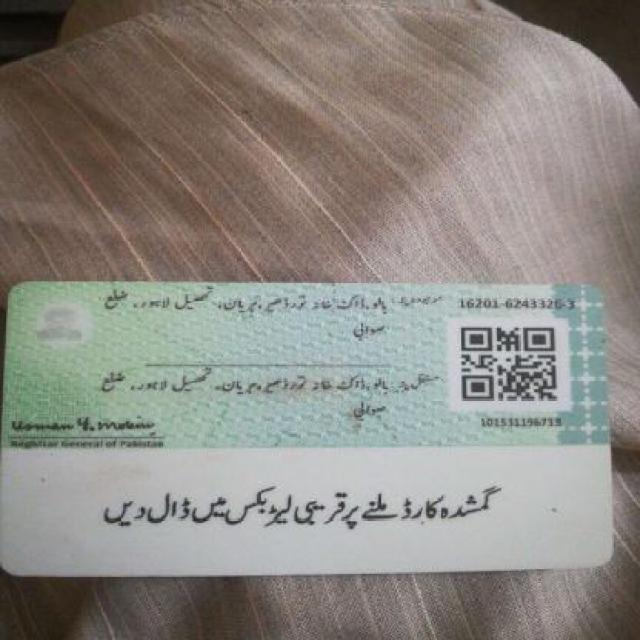Back: (6, 271, 619, 578)
